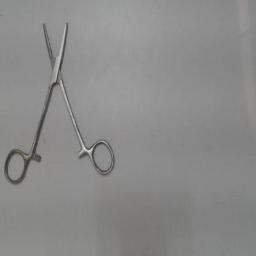Mayo Needle Holder: (0, 10, 120, 188)
